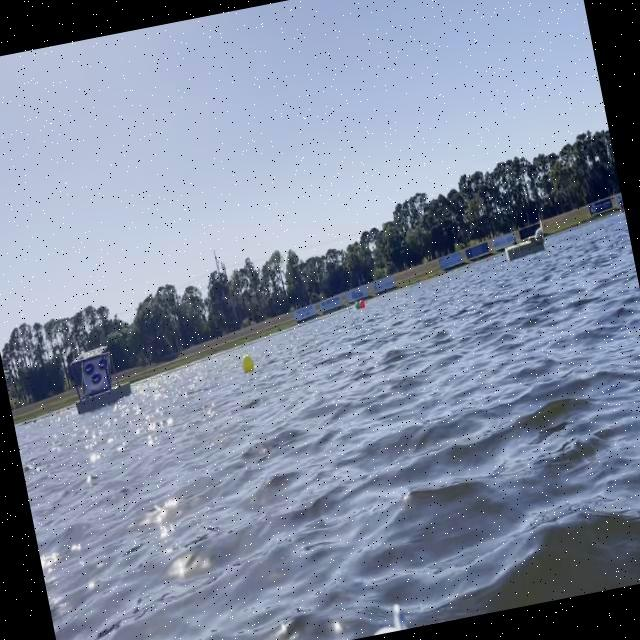buoy: (240, 352, 256, 374), (358, 298, 366, 310), (354, 300, 360, 310)
